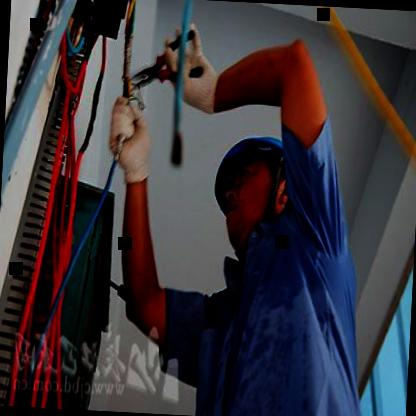helmet: (204, 92, 298, 252)
